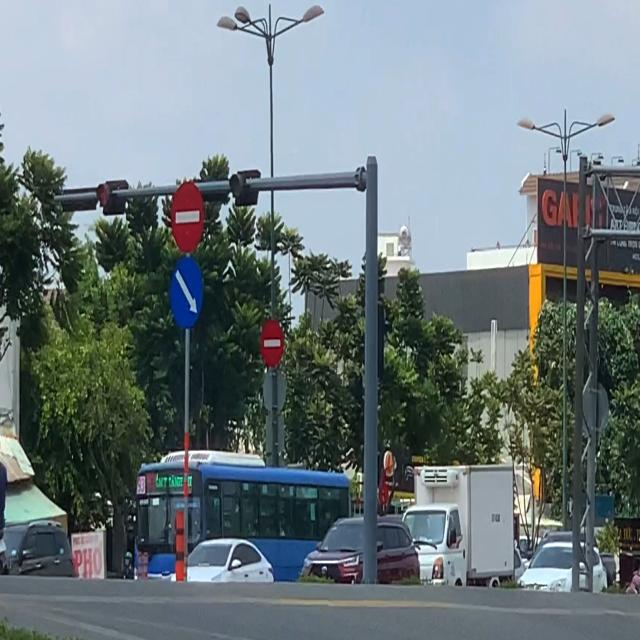Cam nguoc chieu: (170, 179, 206, 255), (260, 316, 284, 371)
Hieu lenh: (169, 255, 206, 332)
